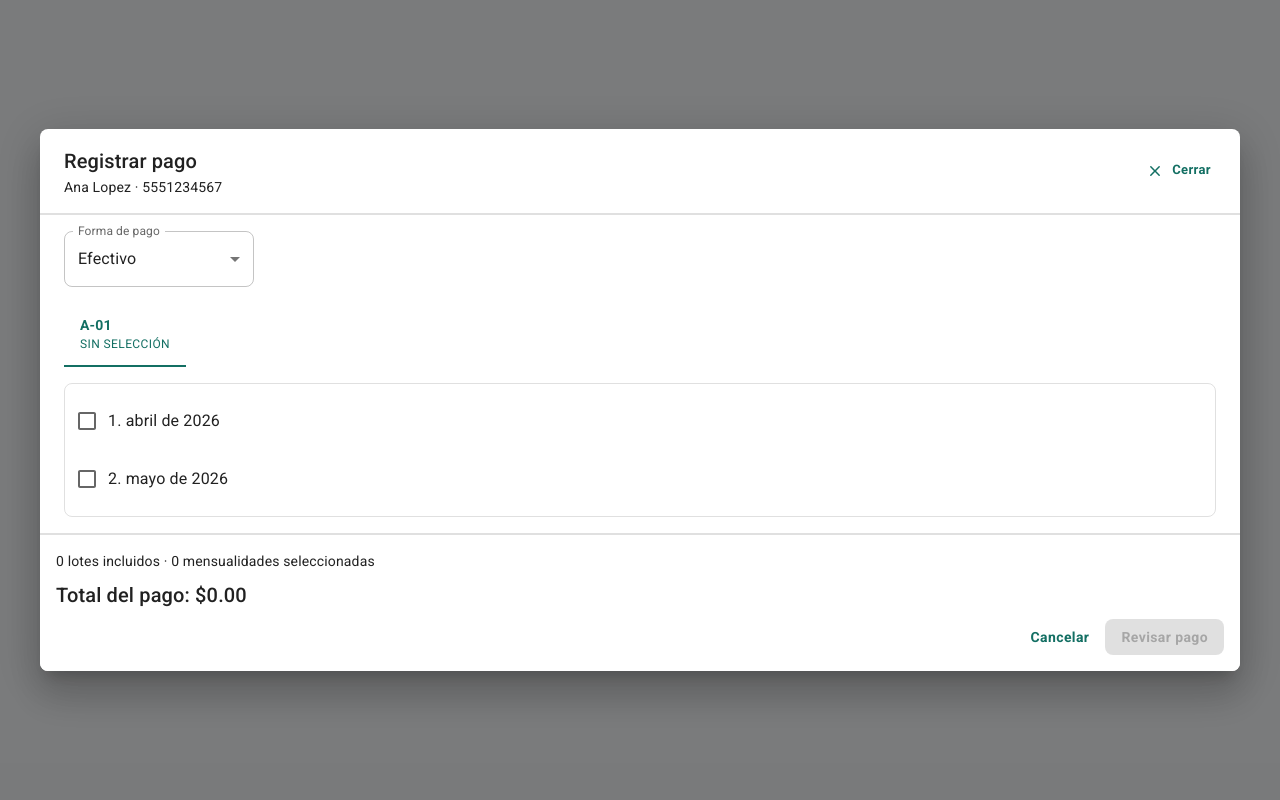
Test: RegisterPaymentDialog › shows the transfer reference field when transfer is selected
Press the mouse on the dropdown labelled "Efectivo" at (107, 259), box left=78, top=249, right=136, bottom=268
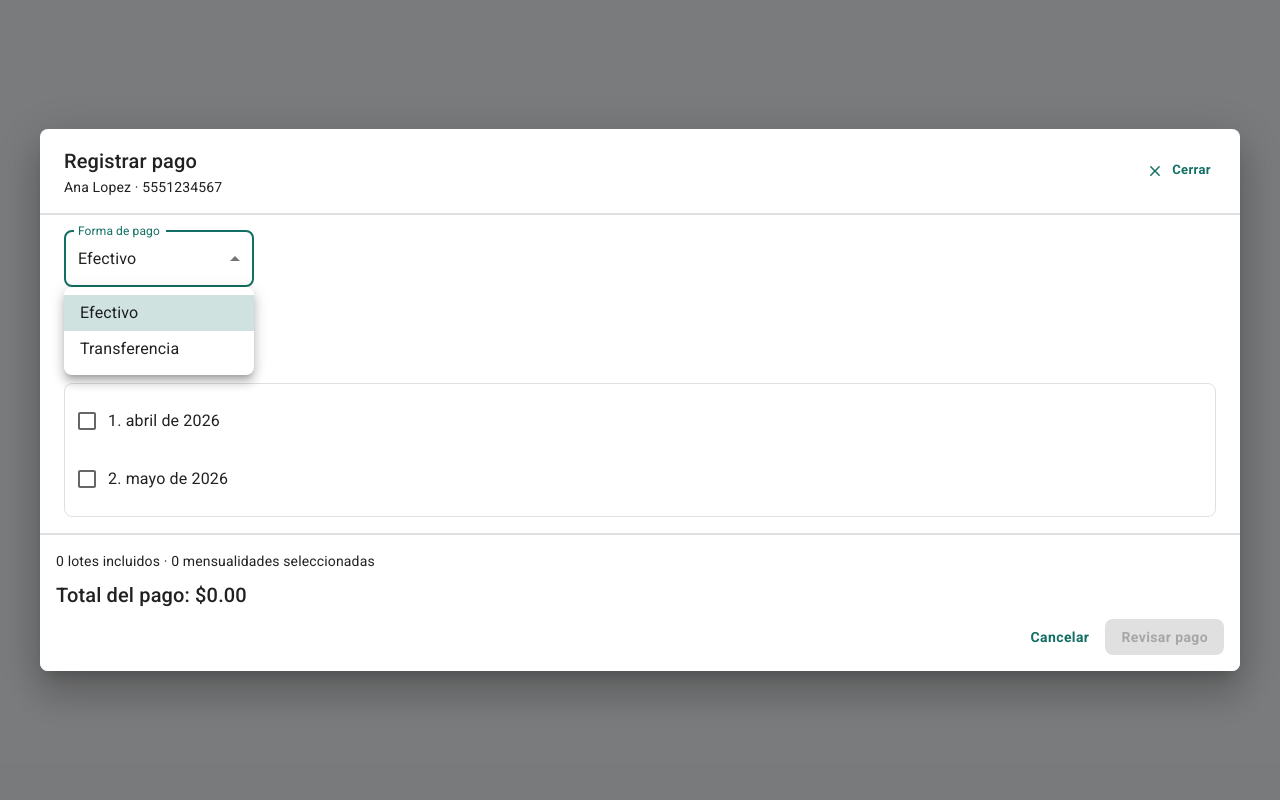
Click the option "Transferencia" at (130, 348), box left=80, top=339, right=179, bottom=358
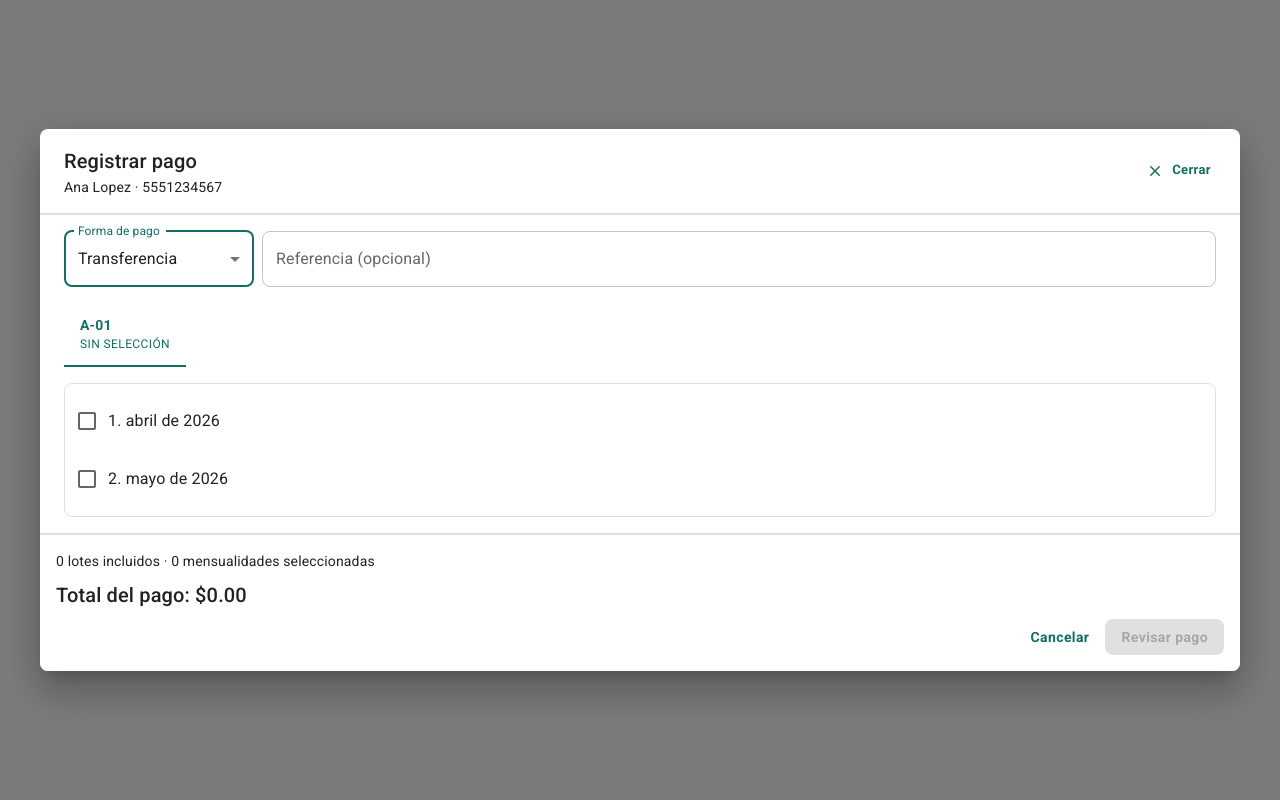
Expected: the field labelled "Referencia (opcional)" is shown, left=262, top=231, right=1216, bottom=287
